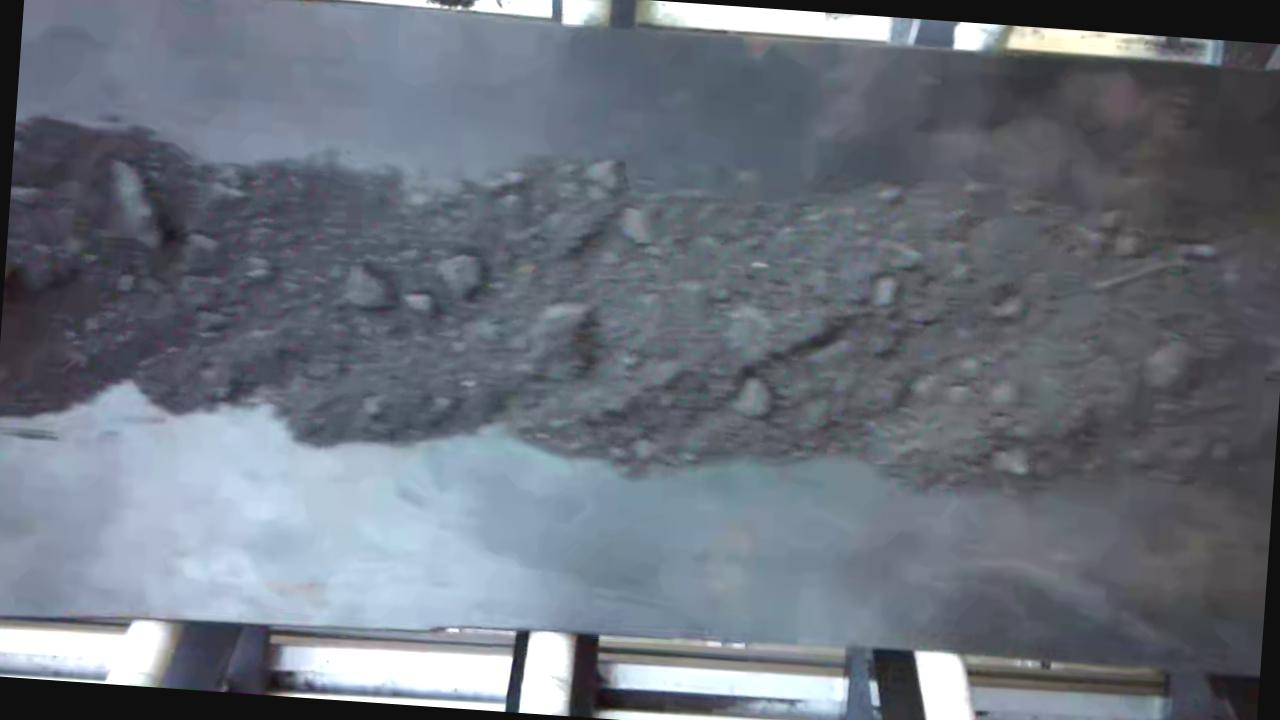conveyor: (0, 0, 1280, 673)
